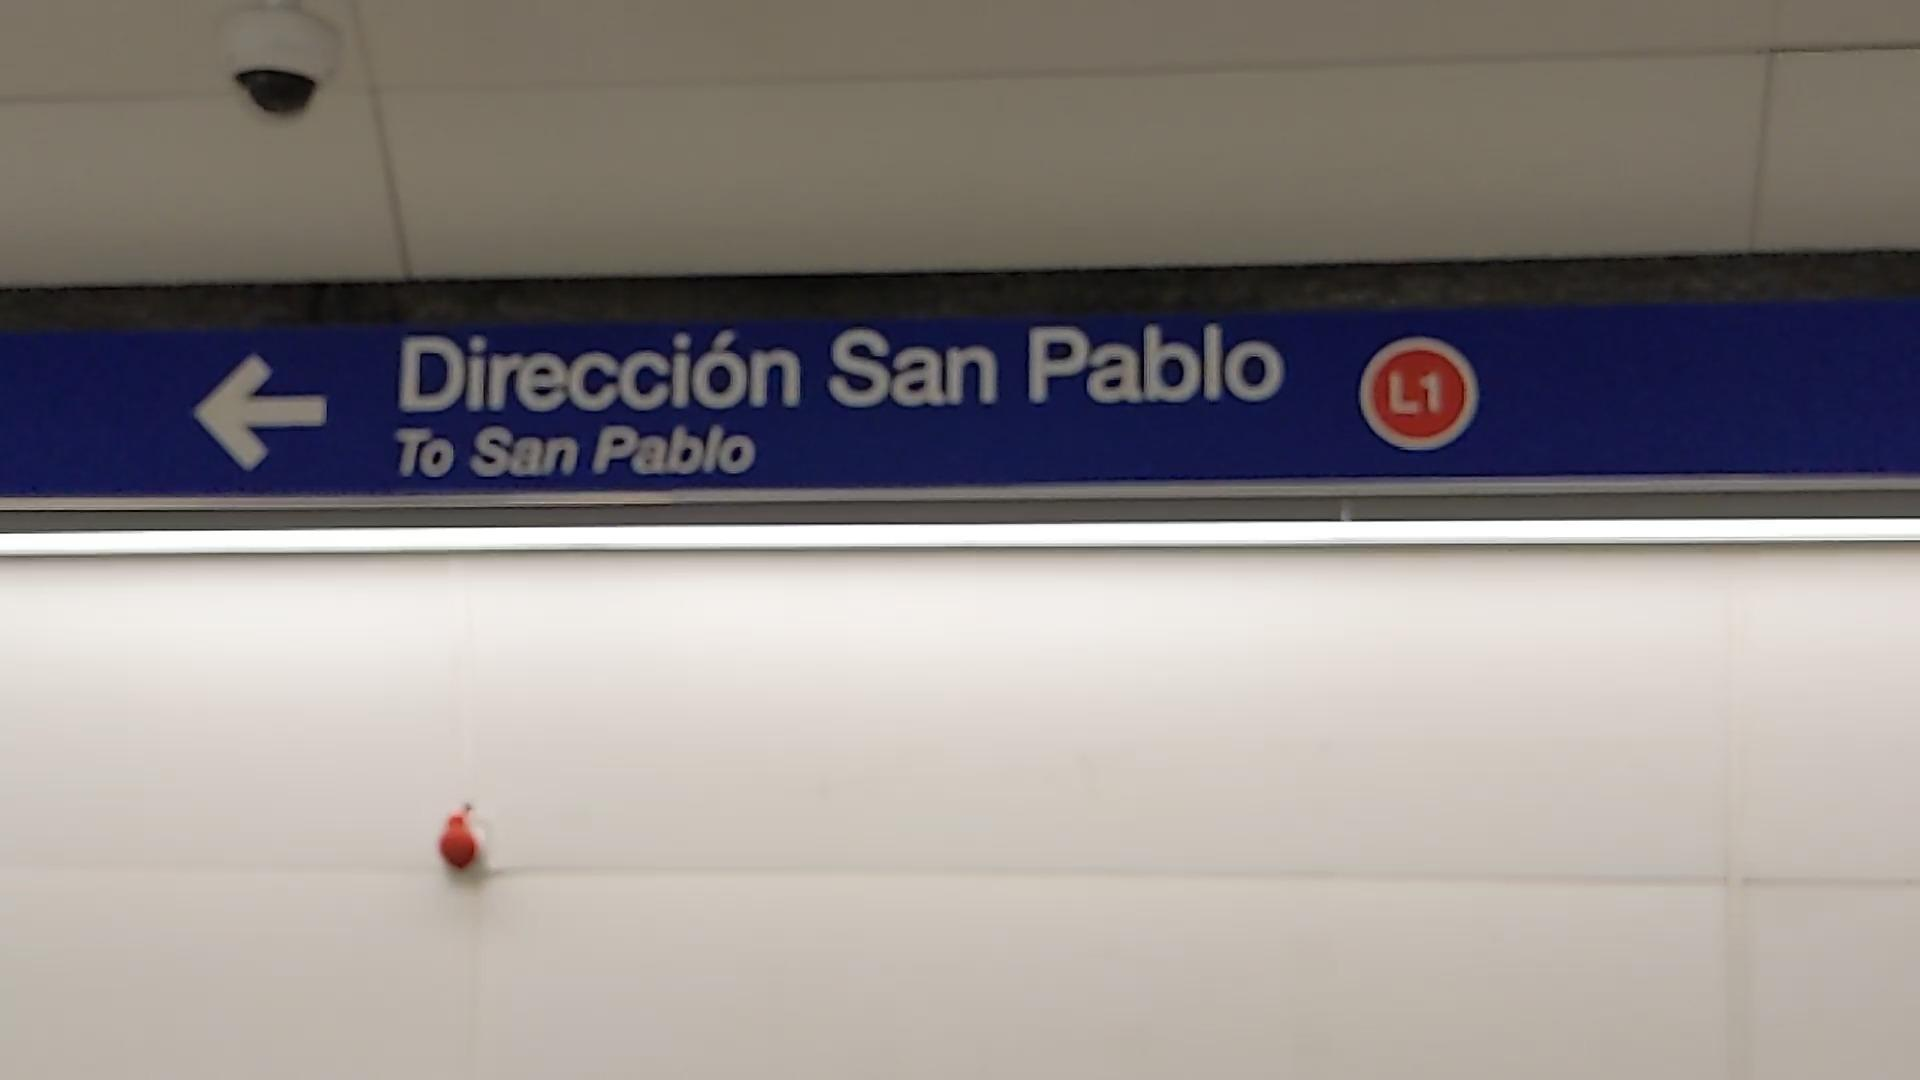left arrow: (187, 352, 335, 469)
